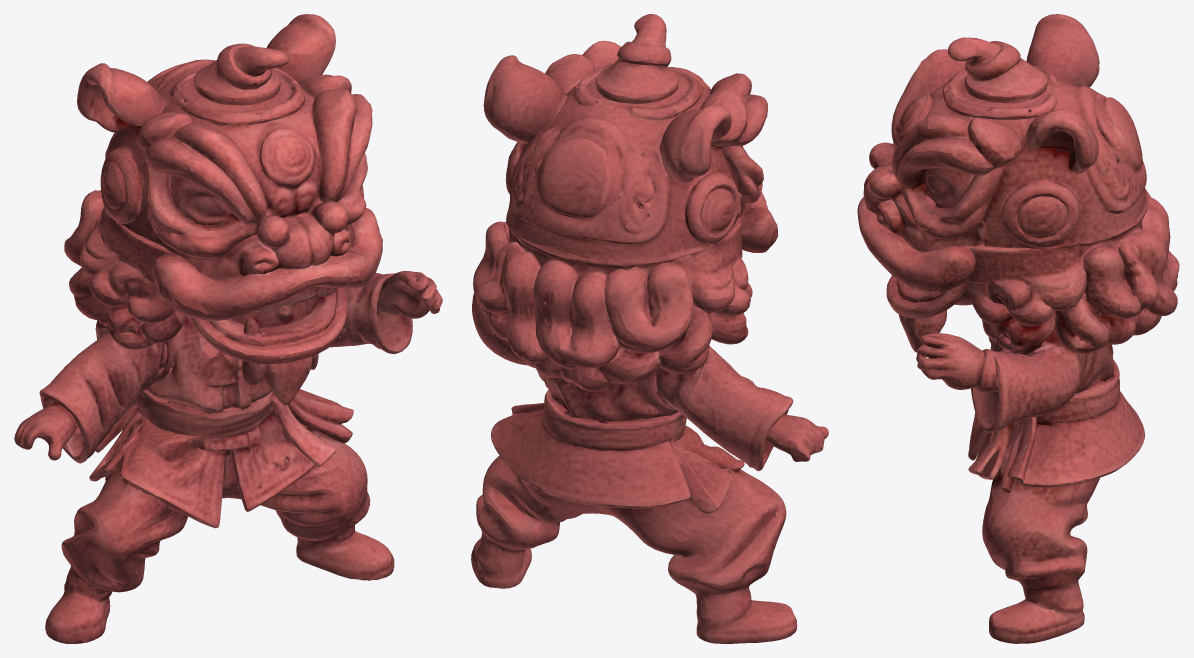
The picture shows the model from 3 angles, left to right: view 1: azimuth 30°, elevation 25°; view 2: azimuth 150°, elevation 25°; view 3: azimuth 270°, elevation 25°; orthographic projection. The views are drawn at different scales.
Visible parts, largest first — view 1: geometry_0; view 2: geometry_0; view 3: geometry_0.
Boxes of the visible parts, x1,y1,x2,y2 form: geometry_0: [14, 14, 442, 643]; geometry_0: [471, 14, 828, 643]; geometry_0: [857, 14, 1179, 643].
Bounding box in the file's own units: 0.1242 × 0.18 × 0.0982.
Materials: 1 (1 with a texture image).
